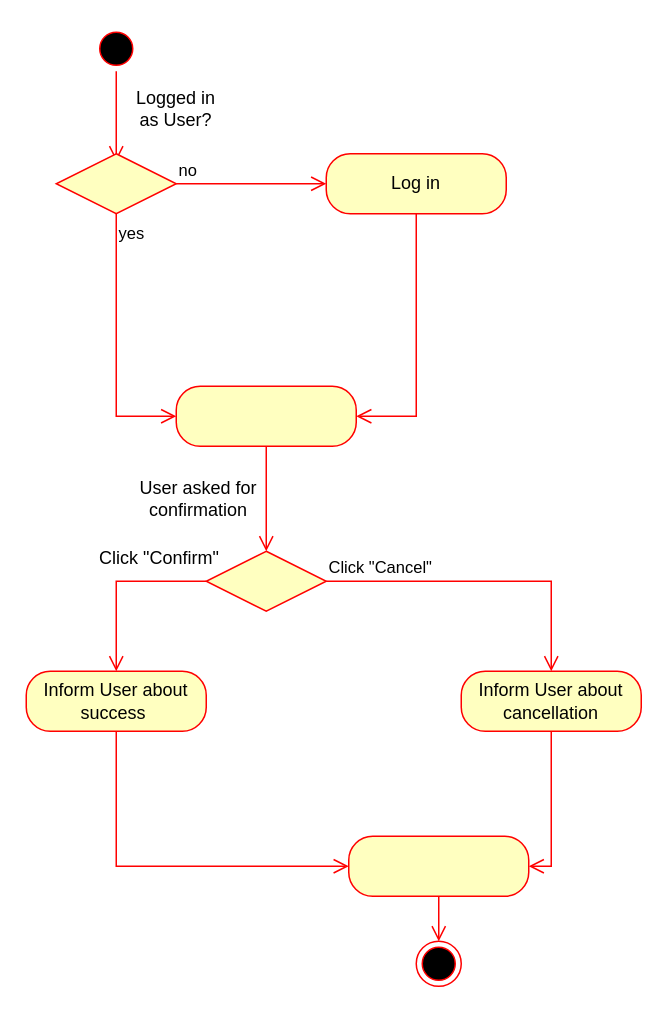
Image size: 668x1013. Some labels were removed from this diagram. The centre of each missing label's shape, as x and y in pixels:
Click "Withdraw": (265,415)
Redirection to User profile: (438,865)
